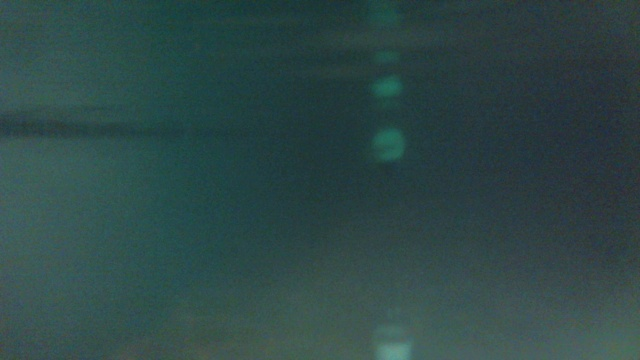buoy_green: (369, 124, 407, 174)
